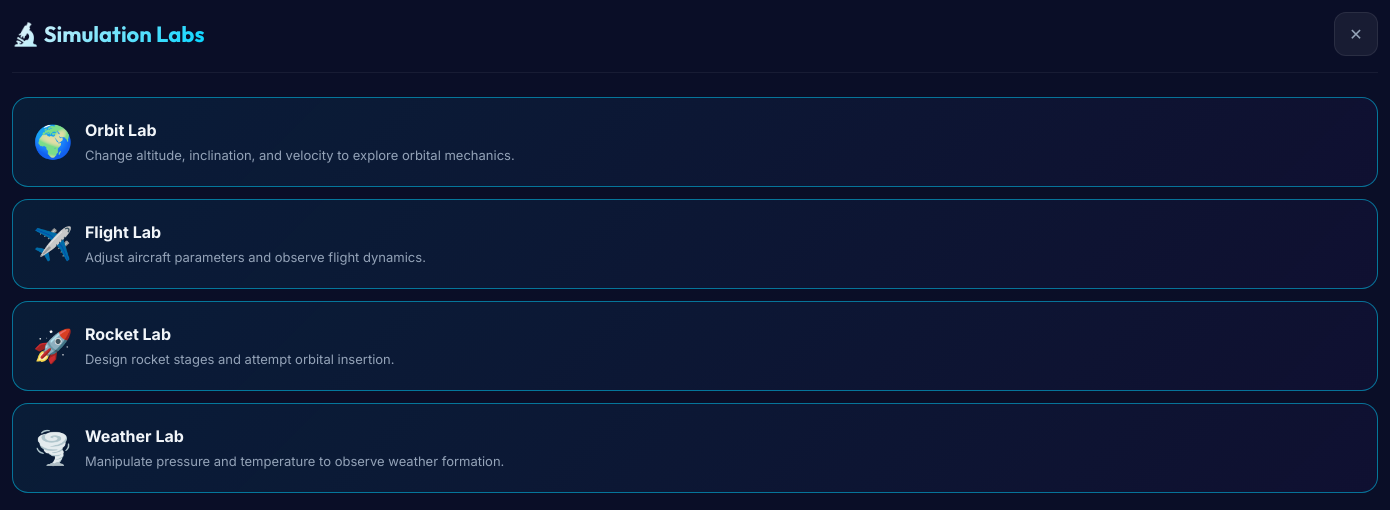
Test: LabPanel › clicking rocket lab opens it
This screenshot has width=1390, height=510.
What coordinates should you click on to do the following:
click the text "Rocket Lab"
I would click on:
 (128, 334)
Its box is [85, 324, 171, 344].
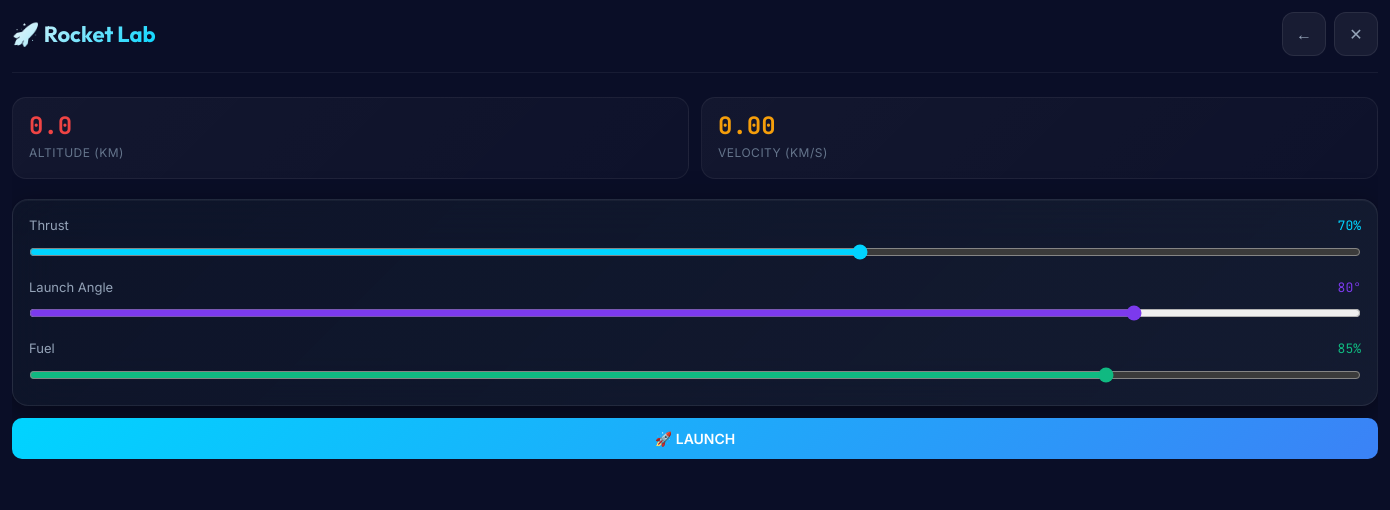
expect the text "🚀 Rocket Lab" is shown: met, box [12, 18, 156, 50]
expect the button "🚀 LAUNCH" is shown: met, box [12, 418, 1378, 458]
